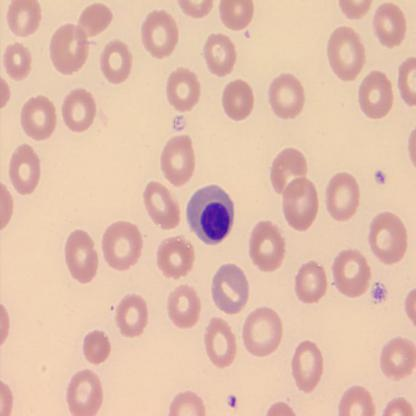NRC: (186, 183, 236, 247)
